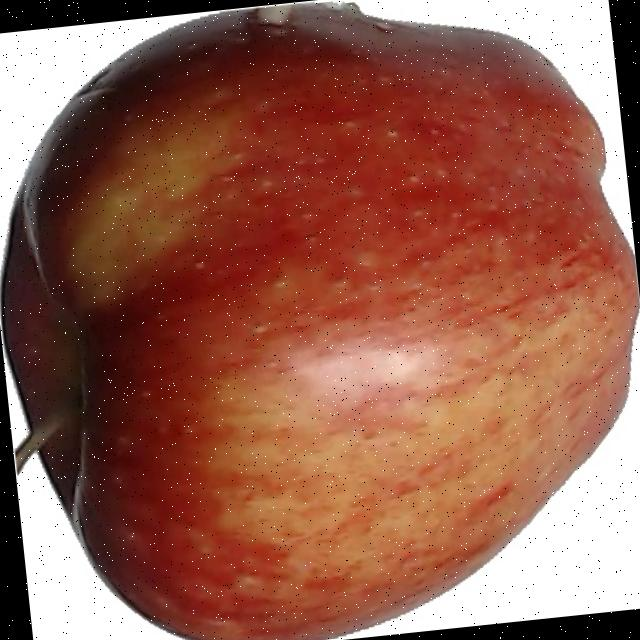apple: (1, 3, 636, 640)
